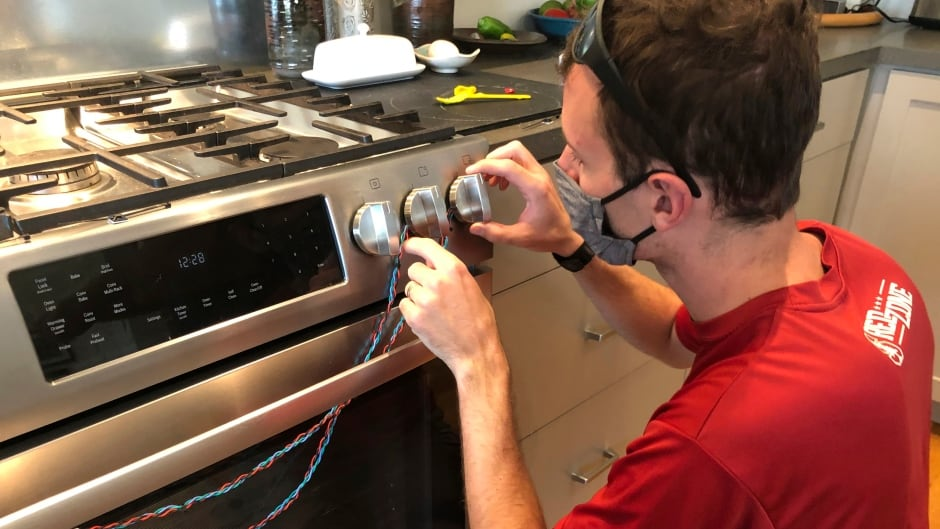stove: (3, 51, 552, 527)
